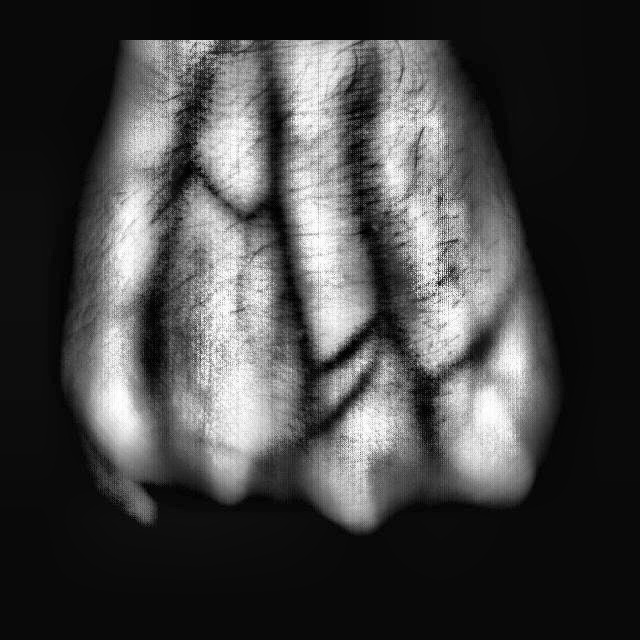Vein: (333, 76, 397, 288), (141, 125, 202, 325), (262, 153, 314, 330)
